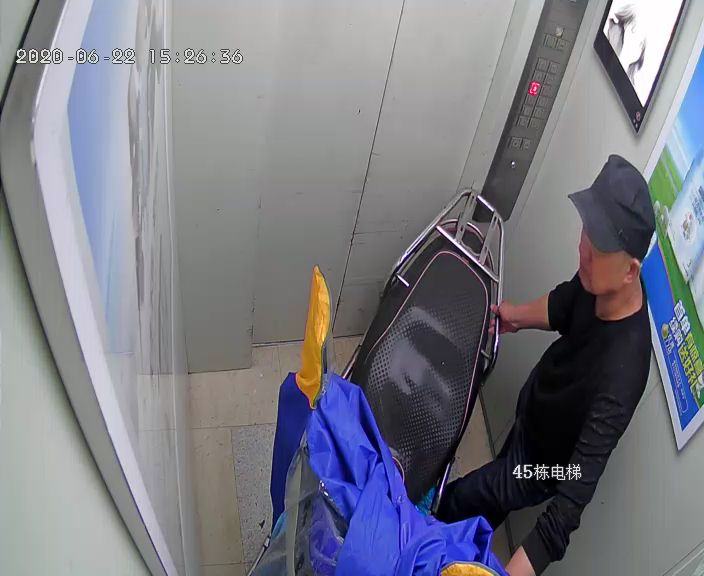Electric-bicycle: (249, 185, 504, 576)
